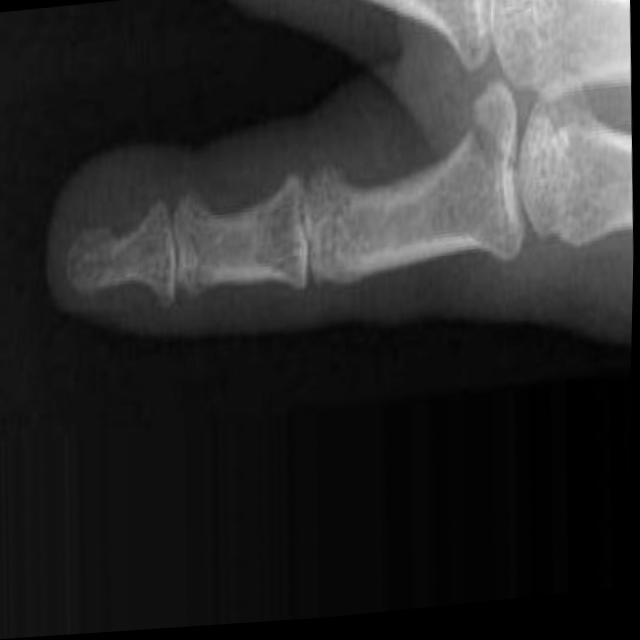fracture: (464, 63, 521, 208)
